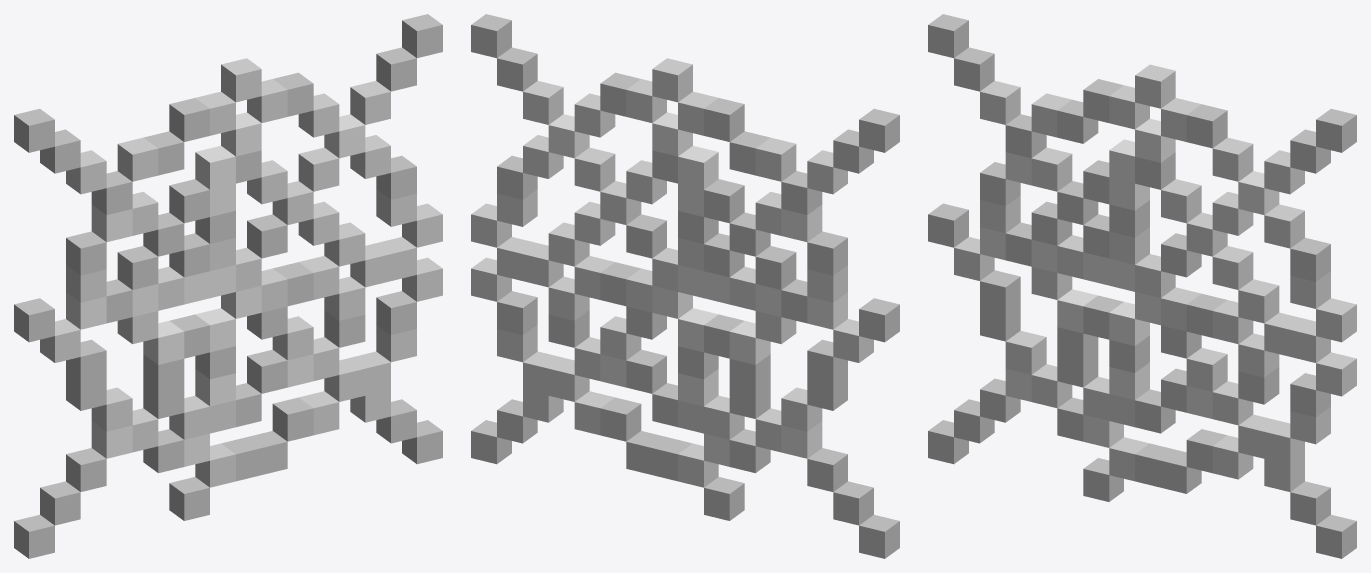
File: Cobweb.glb
3 views of the same model, side by side, from view 1: azimuth 30°, elevation 25°; view 2: azimuth 150°, elevation 25°; view 3: azimuth 330°, elevation 25° (orthographic).
Visible parts, largest first — view 1: Untitled; view 2: Untitled; view 3: Untitled.
Boxes of the visible parts, x1,y1,x2,y2 form: Untitled: [14, 14, 442, 558]; Untitled: [471, 14, 899, 558]; Untitled: [928, 14, 1356, 558].
Bounding box in the file's own units: 8 × 8 × 0.5.
1 material, 1 textured.
